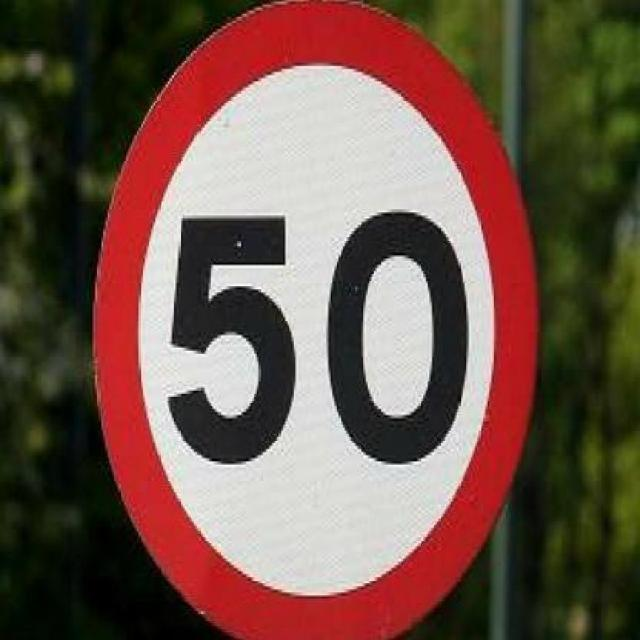traffic_sign: (110, 31, 538, 620)
